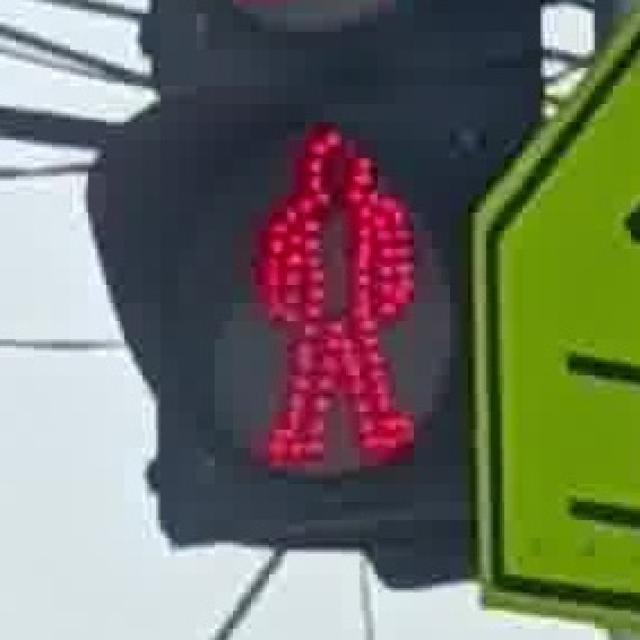red-crossing: (225, 102, 440, 482)
